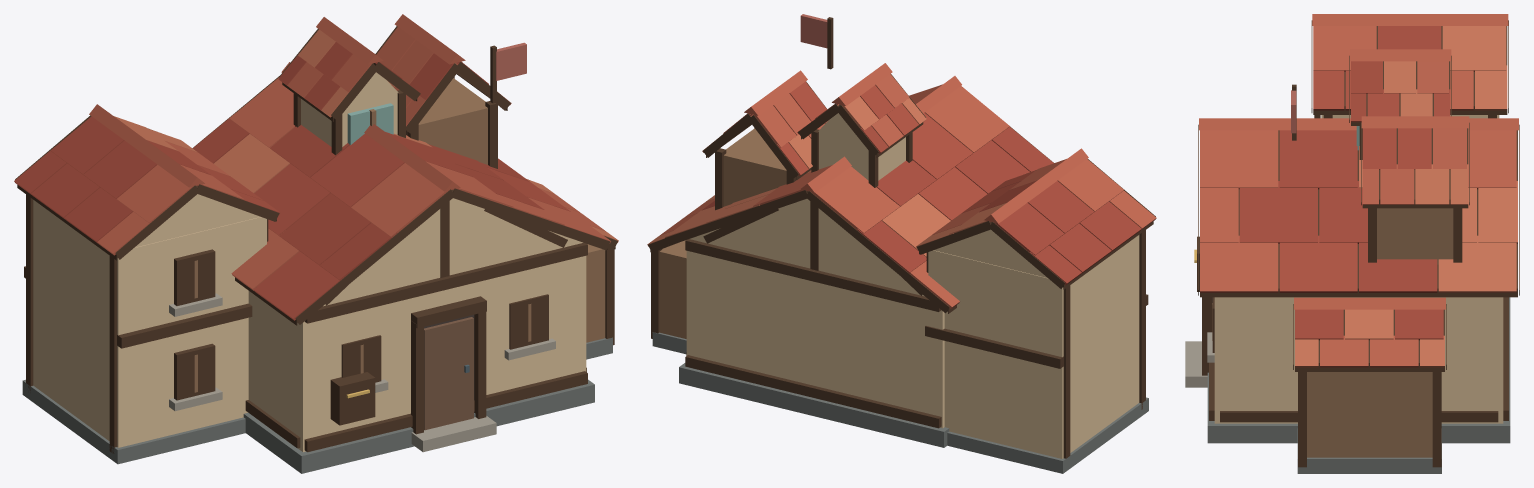
Rendered from ENV_Civic_post_LOD1.glb.
3 renders of one model, left to right at view 1: azimuth 30°, elevation 25°; view 2: azimuth 150°, elevation 25°; view 3: azimuth 270°, elevation 25°, orthographic. The views are drawn at different scales.
Parts seen in each view (by area): view 1: ENV_Civic_post_LOD1_stage7_upper_wing_plaster, ENV_Civic_post_LOD1_shell_plaster, ENV_Civic_post_LOD1_roof_roofTiles, ENV_Civic_post_LOD1_stage7_upper_wing_roofTiles, ENV_Civic_post_LOD1_shell_woodDark, ENV_Civic_post_LOD1_stage7_upper_wing_woodDark, ENV_Civic_post_LOD1_foundation_stoneDark, ENV_Civic_post_LOD1_stage8_roof_lantern_roofTiles, ENV_Civic_post_LOD1_shell_wood, ENV_Civic_post_LOD1_post_identity_woodDark, ENV_Civic_post_LOD1_post_identity_roofTiles, ENV_Civic_post_LOD1_post_identity_woodLight (+10 smaller); view 2: ENV_Civic_post_LOD1_shell_plaster, ENV_Civic_post_LOD1_stage7_upper_wing_plaster, ENV_Civic_post_LOD1_roof_roofTiles, ENV_Civic_post_LOD1_stage7_upper_wing_roofTiles, ENV_Civic_post_LOD1_shell_woodDark, ENV_Civic_post_LOD1_stage7_upper_wing_woodDark, ENV_Civic_post_LOD1_foundation_stoneDark, ENV_Civic_post_LOD1_stage8_roof_lantern_roofTiles, ENV_Civic_post_LOD1_post_identity_roofTiles, ENV_Civic_post_LOD1_post_identity_woodLight, ENV_Civic_post_LOD1_stage7_upper_wing_stoneDark, ENV_Civic_post_LOD1_roof_woodDark (+7 smaller); view 3: ENV_Civic_post_LOD1_roof_roofTiles, ENV_Civic_post_LOD1_shell_plaster, ENV_Civic_post_LOD1_stage7_upper_wing_roofTiles, ENV_Civic_post_LOD1_stage5_shed_woodLight, ENV_Civic_post_LOD1_stage5_shed_roofTiles, ENV_Civic_post_LOD1_post_identity_roofTiles, ENV_Civic_post_LOD1_stage8_roof_lantern_roofTiles, ENV_Civic_post_LOD1_post_identity_woodLight, ENV_Civic_post_LOD1_foundation_stoneDark, ENV_Civic_post_LOD1_shell_woodDark, ENV_Civic_post_LOD1_stage5_shed_woodDark, ENV_Civic_post_LOD1_roof_woodDark (+5 smaller).
Part boxes in pixels (<box>): ENV_Civic_post_LOD1_stage7_upper_wing_plaster: <box>33,194,266,447</box>; ENV_Civic_post_LOD1_shell_plaster: <box>248,198,586,452</box>; ENV_Civic_post_LOD1_roof_roofTiles: <box>193,62,610,320</box>; ENV_Civic_post_LOD1_stage7_upper_wing_roofTiles: <box>14,104,279,255</box>; ENV_Civic_post_LOD1_shell_woodDark: <box>245,201,587,452</box>; ENV_Civic_post_LOD1_stage7_upper_wing_woodDark: <box>15,115,279,453</box>; ENV_Civic_post_LOD1_foundation_stoneDark: <box>243,379,594,473</box>; ENV_Civic_post_LOD1_stage8_roof_lantern_roofTiles: <box>278,17,421,117</box>; ENV_Civic_post_LOD1_shell_wood: <box>424,317,473,430</box>; ENV_Civic_post_LOD1_post_identity_woodDark: <box>330,26,510,425</box>; ENV_Civic_post_LOD1_post_identity_roofTiles: <box>376,14,511,126</box>; ENV_Civic_post_LOD1_post_identity_woodLight: <box>418,78,487,164</box>; ENV_Civic_post_LOD1_shell_plaster: <box>686,199,944,428</box>; ENV_Civic_post_LOD1_stage7_upper_wing_plaster: <box>928,229,1139,458</box>; ENV_Civic_post_LOD1_roof_roofTiles: <box>665,76,1053,308</box>; ENV_Civic_post_LOD1_stage7_upper_wing_roofTiles: <box>916,148,1156,284</box>; ENV_Civic_post_LOD1_shell_woodDark: <box>685,201,941,428</box>; ENV_Civic_post_LOD1_stage7_upper_wing_woodDark: <box>917,158,1155,458</box>; ENV_Civic_post_LOD1_foundation_stoneDark: <box>679,363,949,447</box>; ENV_Civic_post_LOD1_stage8_roof_lantern_roofTiles: <box>797,63,926,153</box>; ENV_Civic_post_LOD1_post_identity_roofTiles: <box>702,70,828,176</box>; ENV_Civic_post_LOD1_post_identity_woodLight: <box>723,128,786,206</box>; ENV_Civic_post_LOD1_stage7_upper_wing_stoneDark: <box>947,397,1148,473</box>; ENV_Civic_post_LOD1_roof_woodDark: <box>665,126,1053,313</box>; ENV_Civic_post_LOD1_roof_roofTiles: <box>1199,118,1518,292</box>; ENV_Civic_post_LOD1_shell_plaster: <box>1214,297,1503,423</box>; ENV_Civic_post_LOD1_stage7_upper_wing_roofTiles: <box>1312,14,1508,110</box>; ENV_Civic_post_LOD1_stage5_shed_woodLight: <box>1307,372,1432,457</box>; ENV_Civic_post_LOD1_stage5_shed_roofTiles: <box>1294,297,1445,367</box>; ENV_Civic_post_LOD1_post_identity_roofTiles: <box>1361,116,1469,204</box>; ENV_Civic_post_LOD1_stage8_roof_lantern_roofTiles: <box>1350,49,1451,122</box>; ENV_Civic_post_LOD1_post_identity_woodLight: <box>1377,208,1453,264</box>; ENV_Civic_post_LOD1_foundation_stoneDark: <box>1207,297,1510,443</box>; ENV_Civic_post_LOD1_shell_woodDark: <box>1202,297,1508,422</box>; ENV_Civic_post_LOD1_stage5_shed_woodDark: <box>1293,304,1446,467</box>; ENV_Civic_post_LOD1_roof_woodDark: <box>1198,124,1519,297</box>.
Size of the model in its own units: 8.76 by 5.68 by 5.22.
